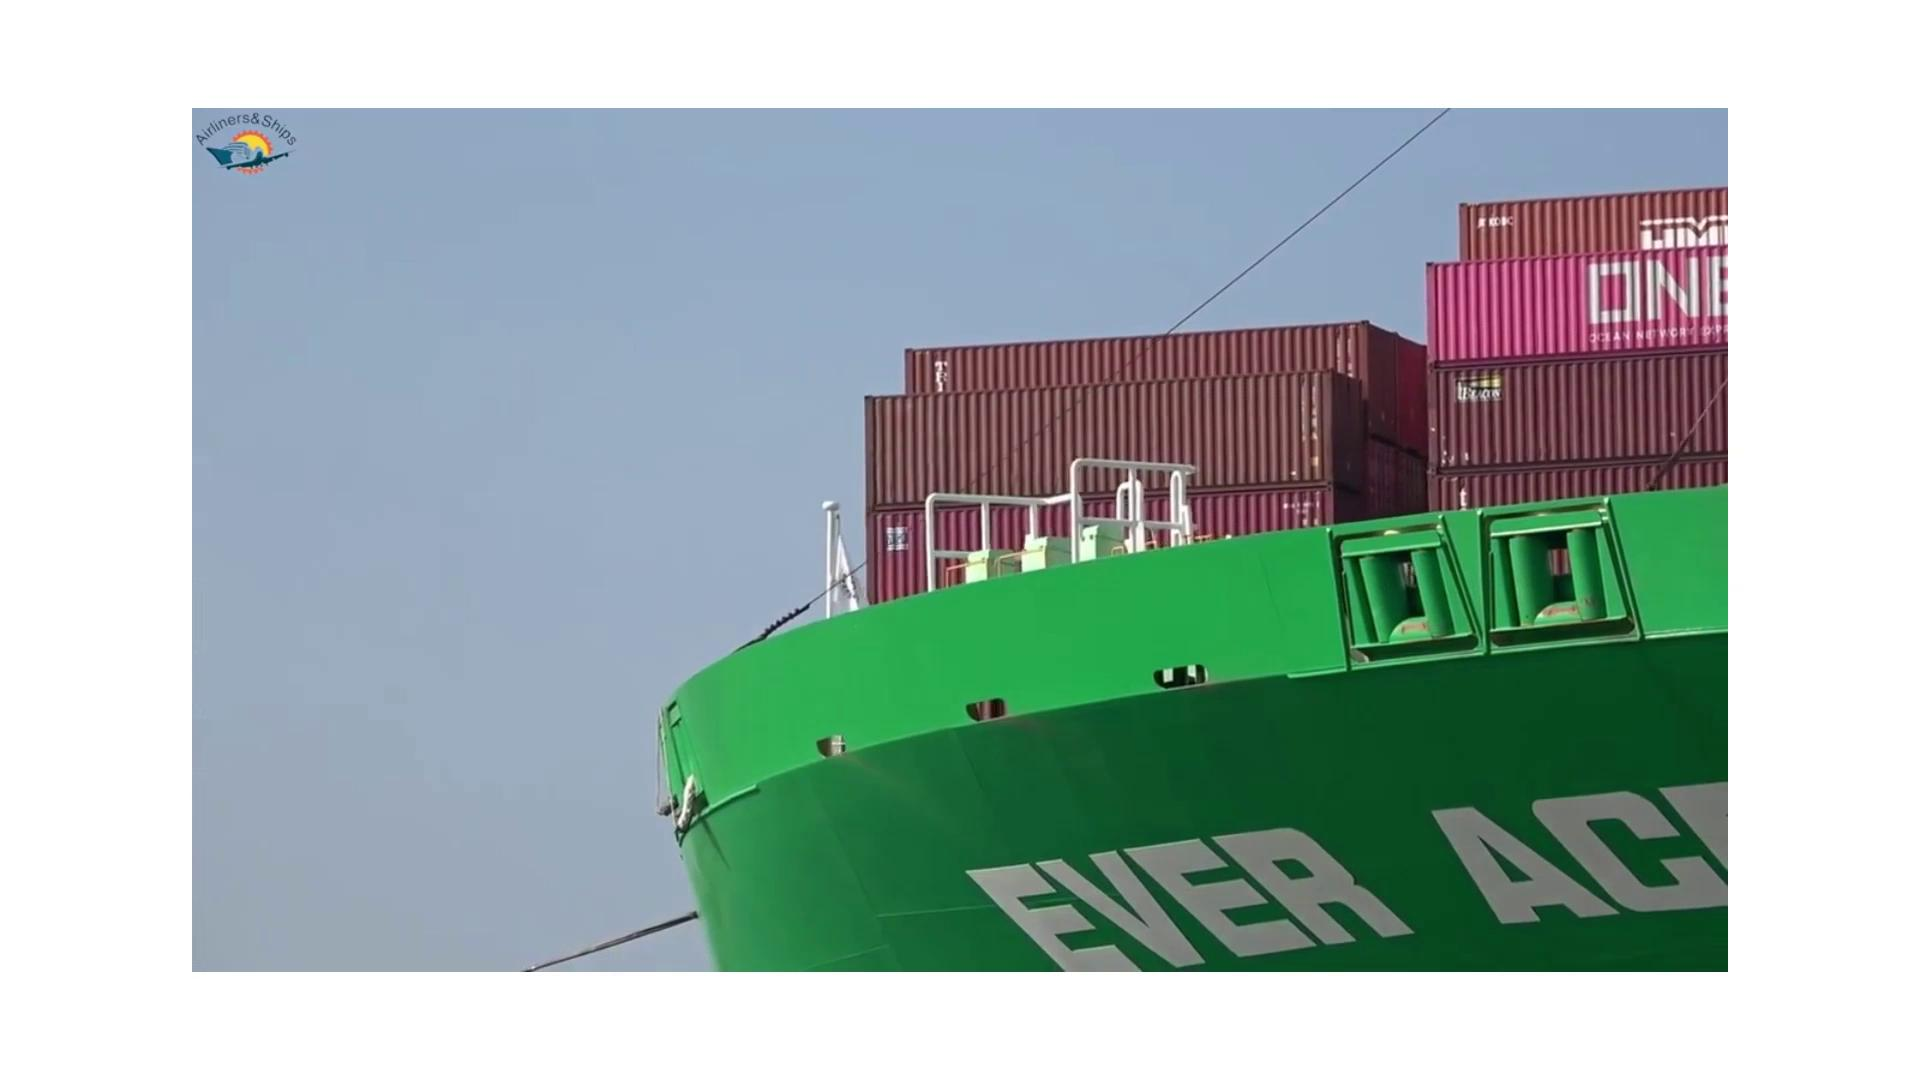OCR: (920, 771, 1731, 975)
